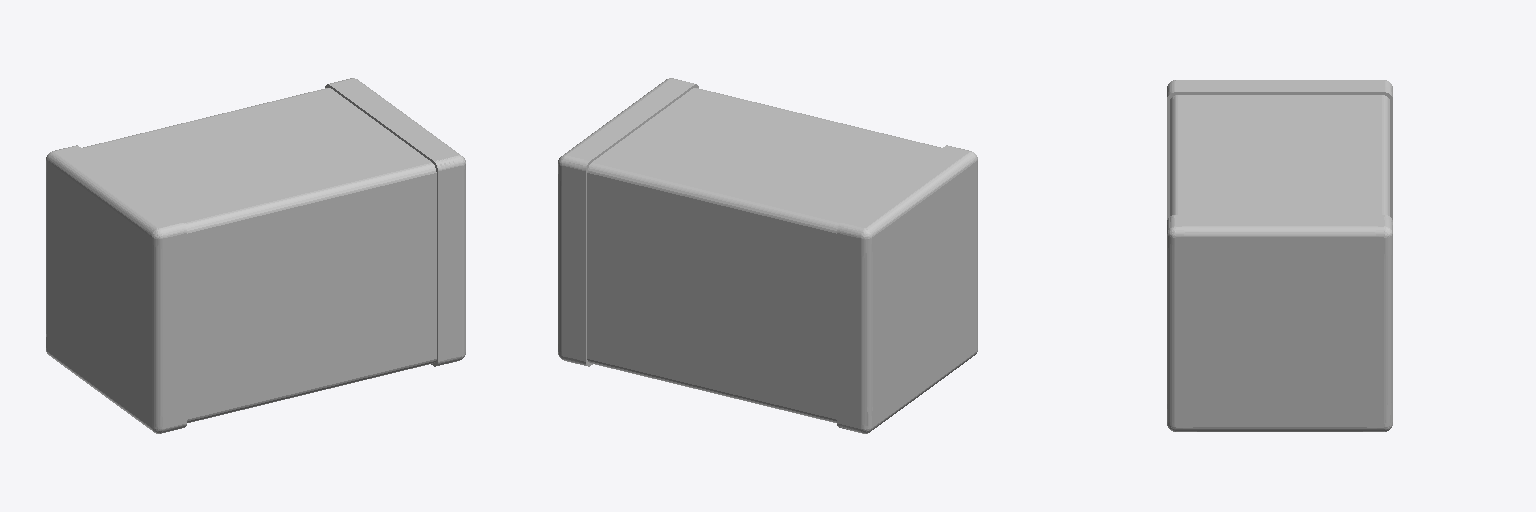
Rendered from CAP0805_125.obj.
3 views of the same model, side by side, from view 1: azimuth 30°, elevation 25°; view 2: azimuth 150°, elevation 25°; view 3: azimuth 270°, elevation 25° (orthographic).
Parts seen in each view (by area): view 1: Solid1, Solid3, Solid2; view 2: Solid1, Solid3, Solid2; view 3: Solid2, Solid1, Solid3.
Boxes of the visible parts, <box> form: Solid1: <box>82,88,436,422</box>; Solid3: <box>46,145,186,433</box>; Solid2: <box>325,78,465,366</box>; Solid1: <box>587,88,941,422</box>; Solid3: <box>837,145,977,433</box>; Solid2: <box>558,78,698,366</box>; Solid2: <box>1167,215,1392,431</box>; Solid1: <box>1170,95,1389,215</box>; Solid3: <box>1167,80,1392,219</box>.
Size of the model in its own units: 0.002 by 0.0012 by 0.0012.